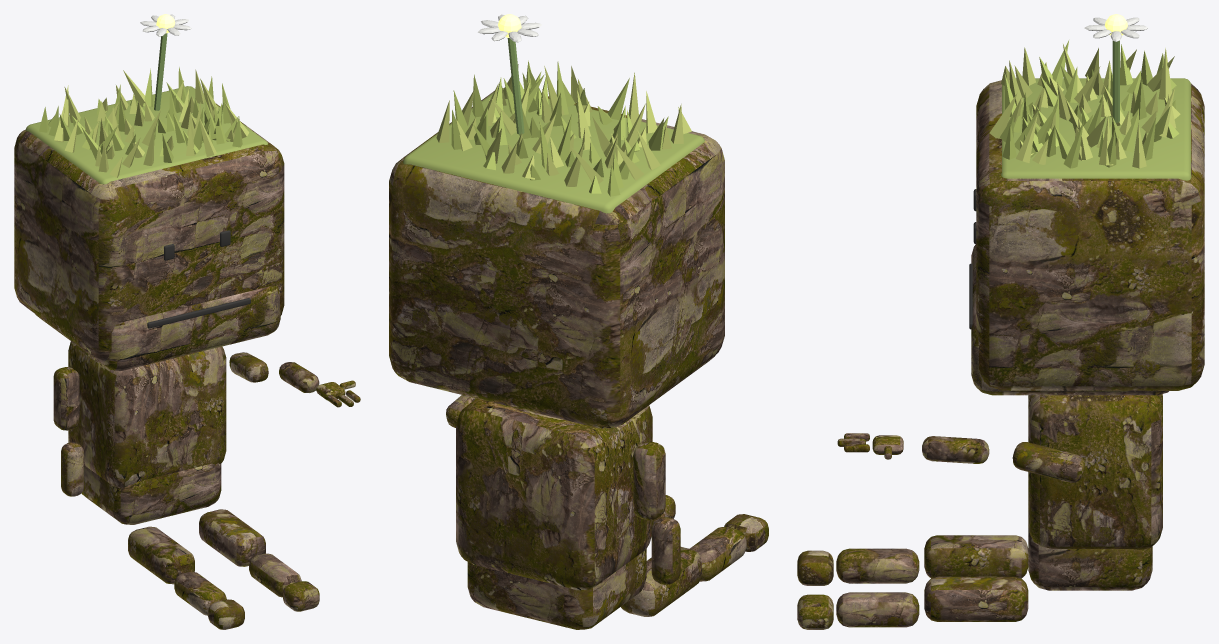
File: troll.glb
3 renders of one model, left to right at view 1: azimuth 30°, elevation 25°; view 2: azimuth 150°, elevation 25°; view 3: azimuth 270°, elevation 25°, orthographic. The views are drawn at different scales.
Parts seen in each view (by area): view 1: troll, mosscap, mouth, Cylinder; view 2: troll, mosscap, Cylinder; view 3: troll, mosscap, Cylinder.
Boxes of the visible parts, x1,y1,x2,y2 form: troll: [14, 103, 360, 629]; mosscap: [25, 86, 268, 184]; mouth: [147, 298, 250, 328]; Cylinder: [154, 33, 167, 110]; troll: [389, 91, 768, 629]; mosscap: [403, 88, 704, 213]; Cylinder: [507, 38, 524, 134]; troll: [797, 80, 1204, 629]; mosscap: [1001, 78, 1191, 180]; Cylinder: [1112, 41, 1119, 122].
Bounding box in the file's own units: 1.16 × 2.57 × 1.57.
8 materials, 1 textured.
